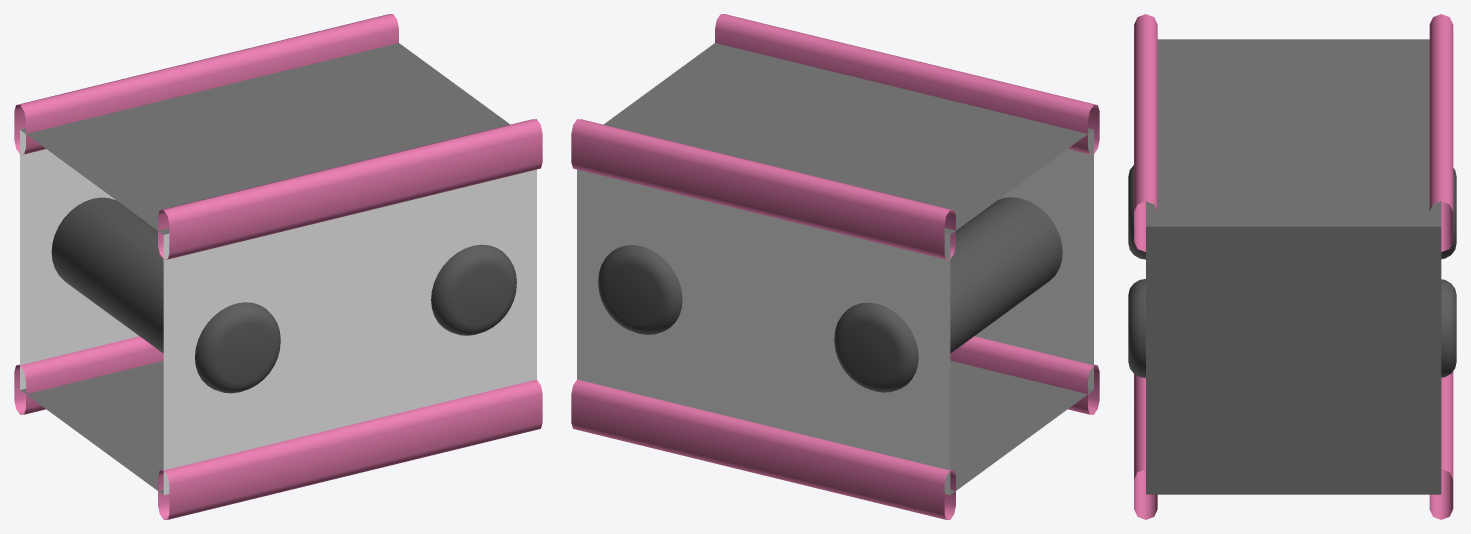
File: parca3.fbx
3 views of the same model, side by side, from view 1: azimuth 30°, elevation 25°; view 2: azimuth 150°, elevation 25°; view 3: azimuth 270°, elevation 25° (orthographic). The views are drawn at different scales.
Visible parts, largest first — view 1: 3; view 2: 3; view 3: 3.
Part boxes in pixels (x1,y1,x2,y2): 3: (14,14,542,519); 3: (571,14,1099,519); 3: (1128,14,1456,519).
Size of the model in its own units: 3 by 2.38 by 2.22.
